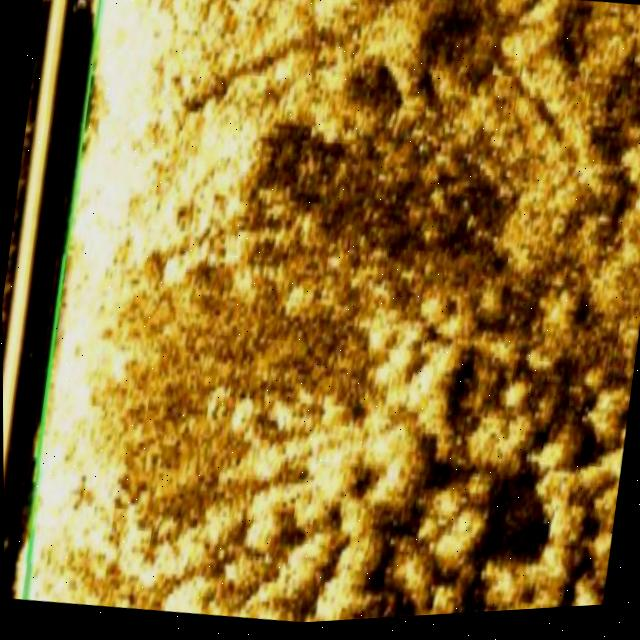bedrock group: (165, 293, 638, 632)
